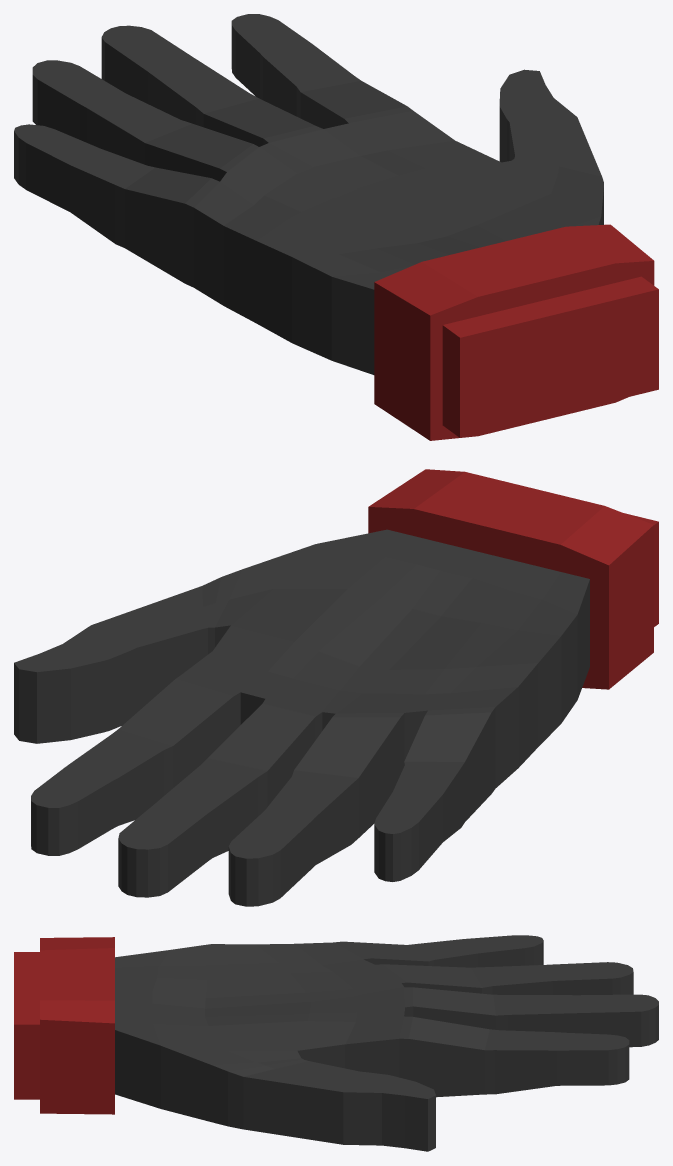
Rendered from Hand.FBX.
3 views of the same model, one above another, from view 1: azimuth 30°, elevation 25°; view 2: azimuth 150°, elevation 25°; view 3: azimuth 270°, elevation 25° (orthographic). The views are drawn at different scales.
Visible parts, largest first — view 1: Box001; view 2: Box001; view 3: Box001.
Part boxes in pixels (x1=…): Box001: x1=14, y1=14, x2=658, y2=440; Box001: x1=14, y1=469, x2=658, y2=906; Box001: x1=14, y1=935, x2=658, y2=1151.
Size of the model in its own units: 17.96 by 5.25 by 29.43.
